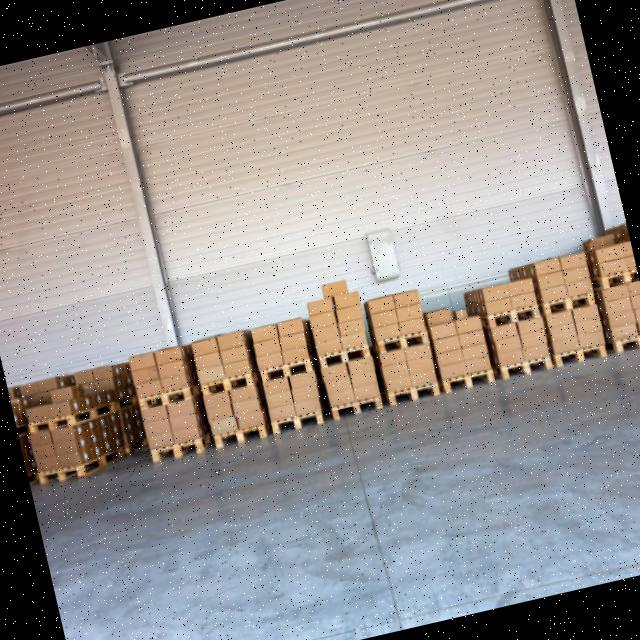Wooden-Pallets: (30, 444, 124, 489), (26, 398, 119, 439), (255, 350, 314, 388), (132, 380, 192, 417), (197, 366, 254, 404), (497, 349, 552, 388), (538, 284, 597, 320), (485, 300, 543, 335), (384, 378, 442, 410), (271, 408, 327, 439), (148, 434, 202, 466), (328, 398, 386, 427), (376, 328, 428, 360), (208, 426, 266, 454), (441, 368, 495, 398), (554, 344, 605, 371), (317, 346, 368, 370)
